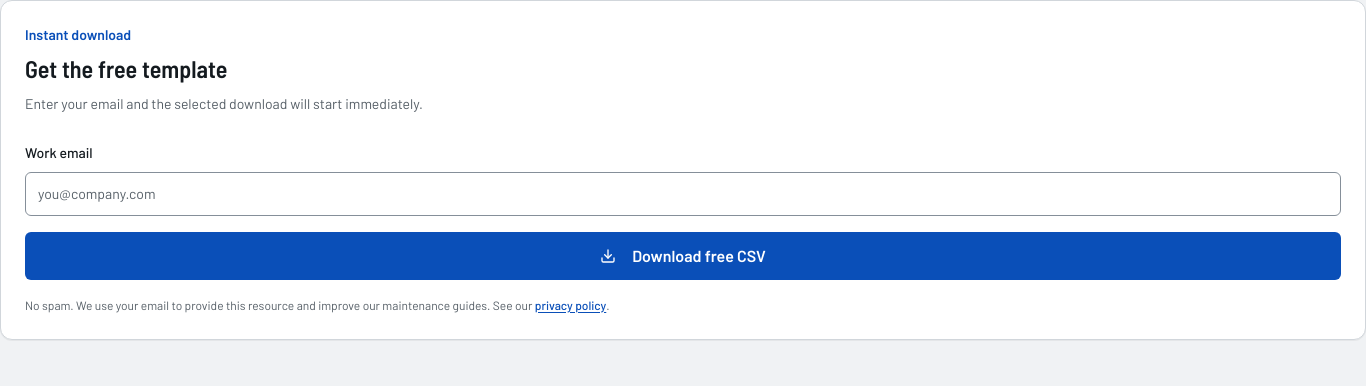
Test case: TemplateDownloadForm › keeps the download gated when the email is invalid
Step 1. Type "not-an-email" into the field labelled "Work email" → (683, 194), box left=25, top=172, right=1341, bottom=216
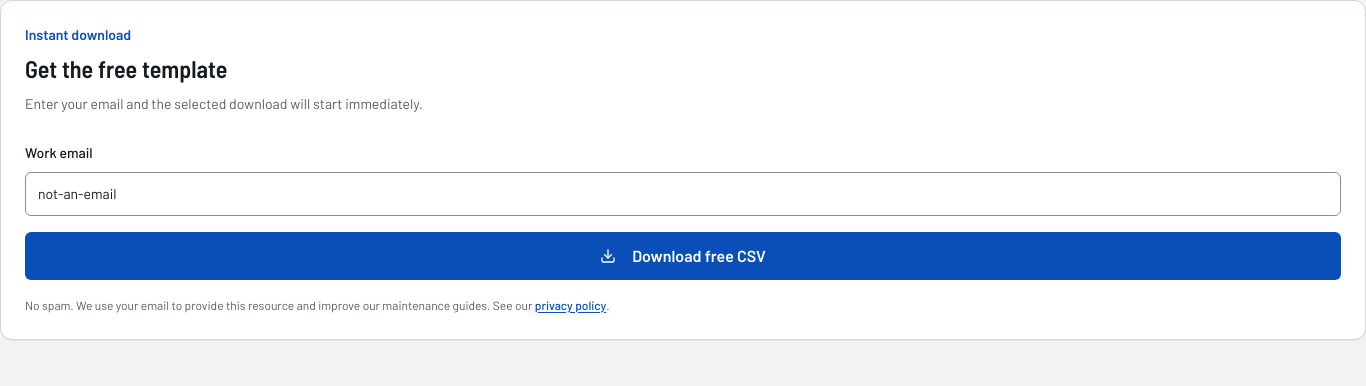
Step 2. Submit the form named "Download free CSV"
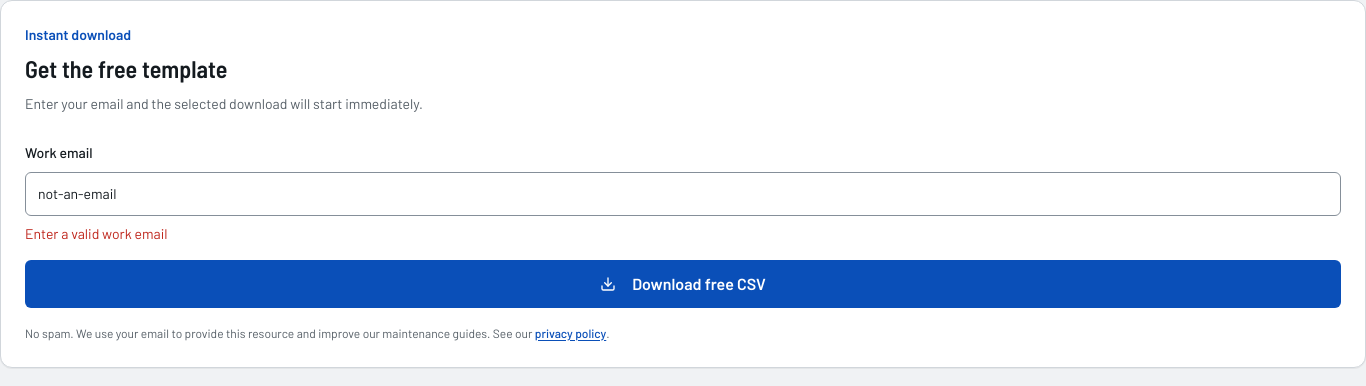
Now the text "Enter a valid work email" is shown, box left=25, top=225, right=168, bottom=242
